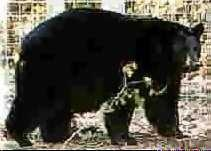bear: (82, 14, 211, 142)
